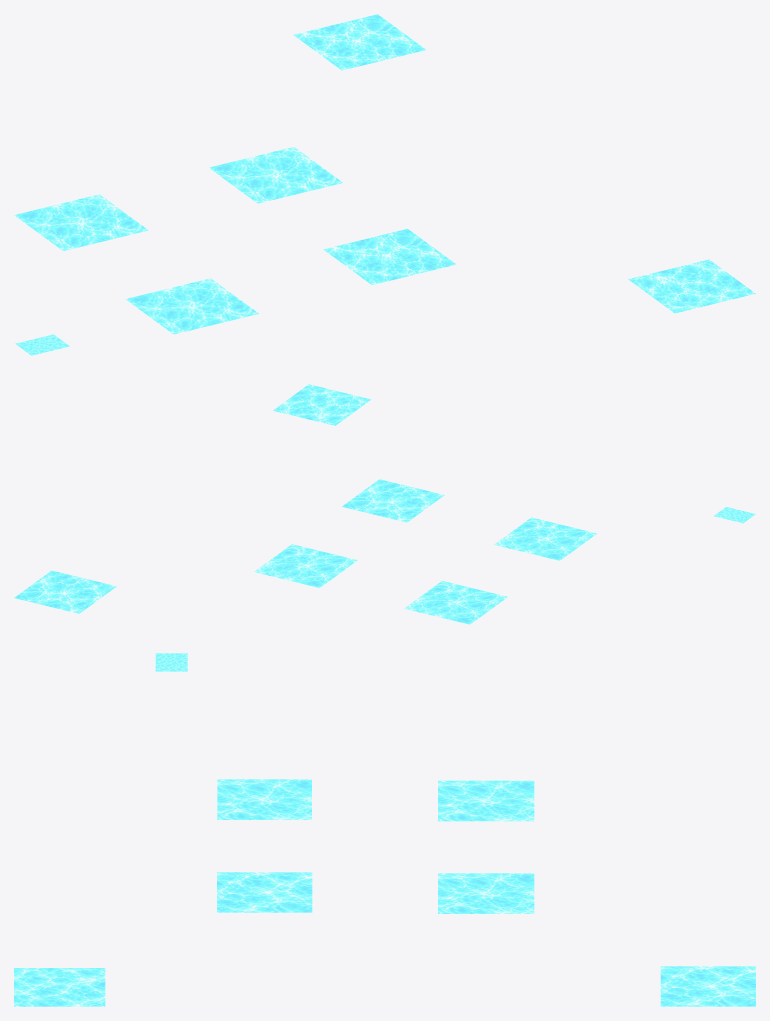
File: water.glb
3 views of the same model, one above another, from view 1: azimuth 30°, elevation 25°; view 2: azimuth 150°, elevation 25°; view 3: azimuth 270°, elevation 25° (orthographic). The views are drawn at different scales.
Parts seen in each view (by area): view 1: PP_Meadow_Lake_Water_01.006, PP_Meadow_Lake_Water_01.004, PP_Meadow_Lake_Water_01.005, PP_Meadow_Lake_Water_04.001, PP_Meadow_Lake_Water_04.003, PP_Meadow_Lake_Water_02.002, PP_Lake_Water_01.001; view 2: PP_Meadow_Lake_Water_01.004, PP_Meadow_Lake_Water_01.006, PP_Meadow_Lake_Water_01.005, PP_Meadow_Lake_Water_04.003, PP_Meadow_Lake_Water_04.001, PP_Meadow_Lake_Water_02.002; view 3: PP_Meadow_Lake_Water_01.006, PP_Meadow_Lake_Water_01.004, PP_Meadow_Lake_Water_04.001, PP_Meadow_Lake_Water_04.003, PP_Meadow_Lake_Water_01.005, PP_Meadow_Lake_Water_02.002, PP_Lake_Water_01.001.
Part boxes in pixels (<box>): PP_Meadow_Lake_Water_01.006: <box>14,194,147,250</box>; PP_Meadow_Lake_Water_01.004: <box>209,147,342,203</box>; PP_Meadow_Lake_Water_01.005: <box>125,278,258,334</box>; PP_Meadow_Lake_Water_04.001: <box>294,14,425,70</box>; PP_Meadow_Lake_Water_04.003: <box>323,229,455,284</box>; PP_Meadow_Lake_Water_02.002: <box>628,259,755,313</box>; PP_Lake_Water_01.001: <box>16,334,69,355</box>; PP_Meadow_Lake_Water_01.004: <box>254,544,357,587</box>; PP_Meadow_Lake_Water_01.006: <box>404,581,507,624</box>; PP_Meadow_Lake_Water_01.005: <box>494,517,596,560</box>; PP_Meadow_Lake_Water_04.003: <box>342,479,444,522</box>; PP_Meadow_Lake_Water_04.001: <box>14,570,116,613</box>; PP_Meadow_Lake_Water_02.002: <box>273,384,370,425</box>; PP_Meadow_Lake_Water_01.006: <box>438,780,534,821</box>; PP_Meadow_Lake_Water_01.004: <box>438,873,534,913</box>; PP_Meadow_Lake_Water_04.001: <box>660,966,755,1006</box>; PP_Meadow_Lake_Water_04.003: <box>217,872,312,912</box>; PP_Meadow_Lake_Water_01.005: <box>217,779,311,819</box>; PP_Meadow_Lake_Water_02.002: <box>14,968,105,1006</box>; PP_Lake_Water_01.001: <box>155,653,187,671</box>.
Size of the model in its own units: 155 by 10.08 by 156.
1 material, 1 textured.
